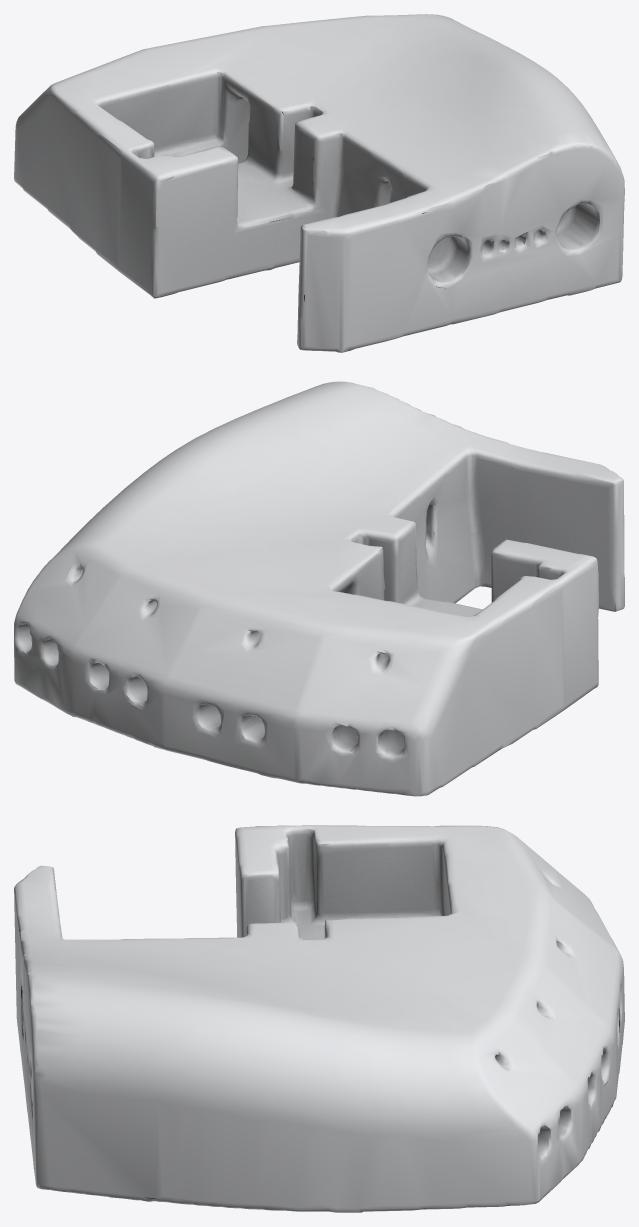
File: left_palm.obj
The picture shows the model from 3 angles, top to bottom: view 1: azimuth 30°, elevation 25°; view 2: azimuth 150°, elevation 25°; view 3: azimuth 270°, elevation 25°; orthographic projection. The views are drawn at different scales.
Parts seen in each view (by area): view 1: left_palm; view 2: left_palm; view 3: left_palm.
Boxes of the visible parts, x1=… form: left_palm: x1=14, y1=14, x2=624, y2=352; left_palm: x1=14, y1=381, x2=624, y2=796; left_palm: x1=14, y1=825, x2=624, y2=1212.
Size of the model in its own units: 0.0678 by 0.0233 by 0.0724.
1 material, 1 textured.
